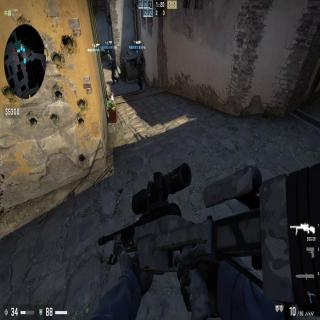CT-Body: (107, 54, 119, 85), (135, 55, 143, 90)
CT-Head: (107, 55, 111, 59), (136, 56, 139, 60)
